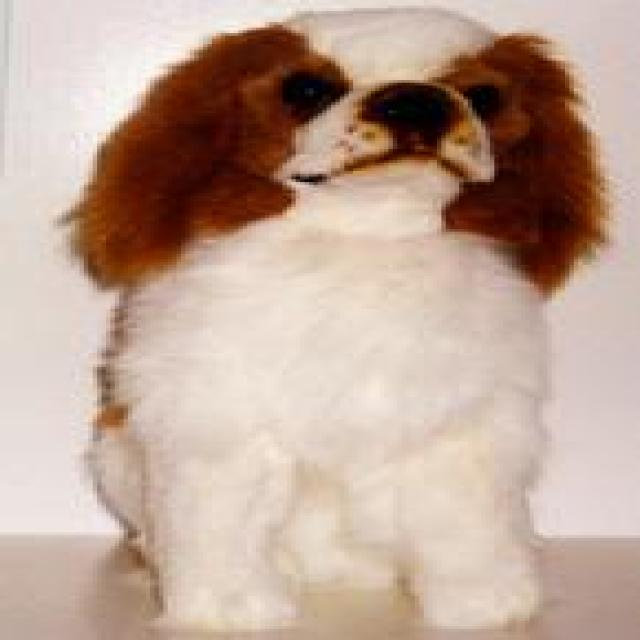blenheim_spaniel: (35, 3, 636, 637)
